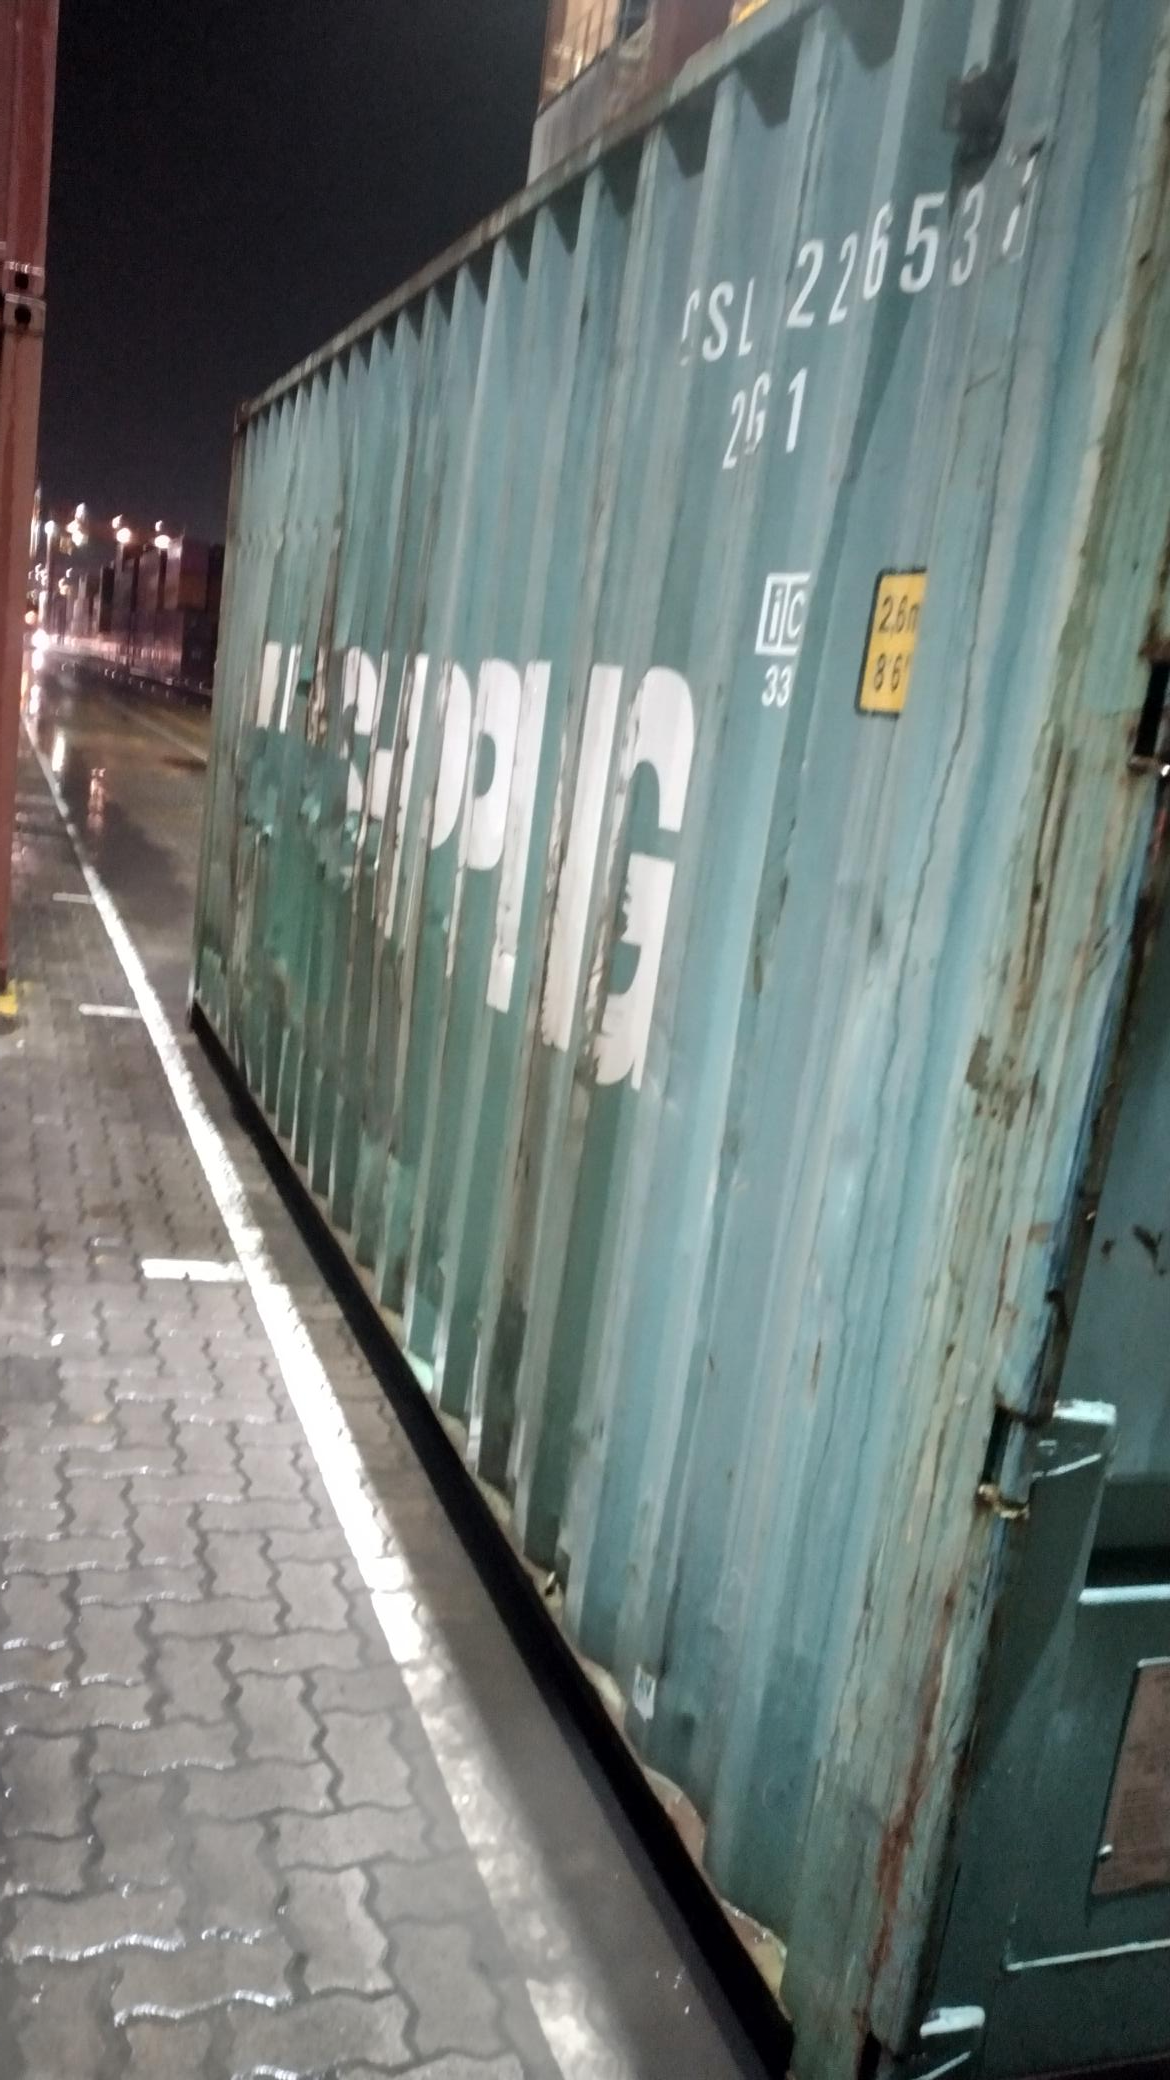moderate: (254, 509, 414, 1054)
